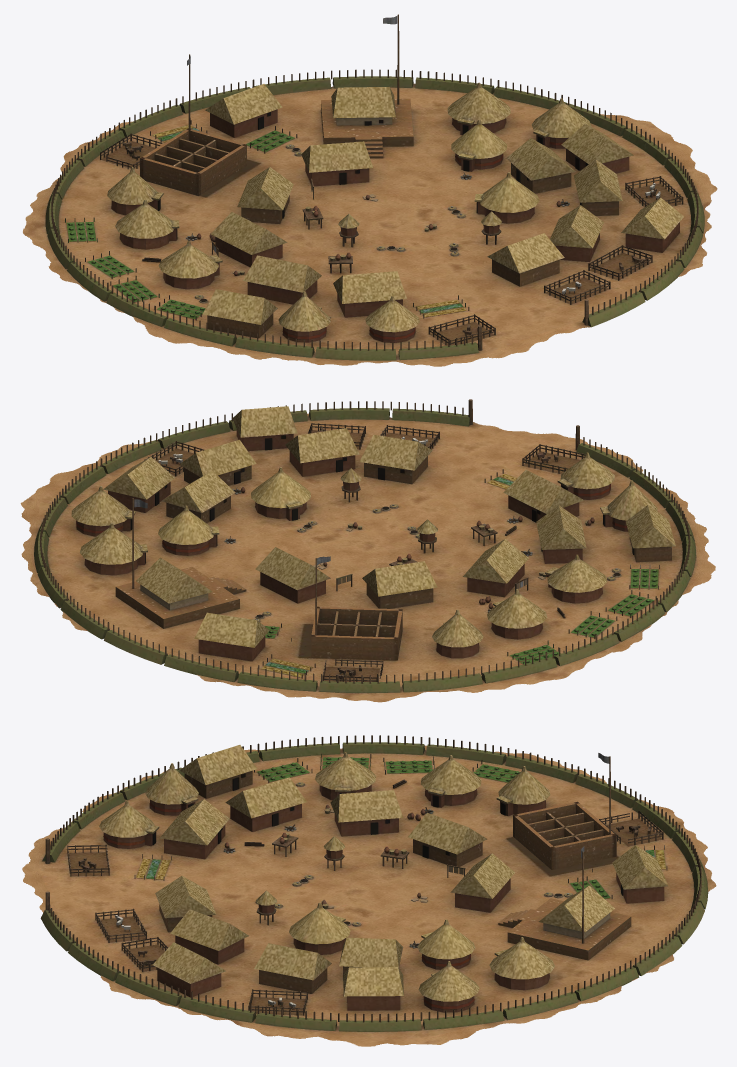
File: stone-town-big-a-indic.glb
3 views of the same model, one above another, from view 1: azimuth 30°, elevation 25°; view 2: azimuth 150°, elevation 25°; view 3: azimuth 270°, elevation 25° (orthographic). The views are drawn at different scales.
Visible parts, largest first — view 1: LOD0; view 2: LOD0; view 3: LOD0.
Part boxes in pixels (bbox=[...]): LOD0: bbox=[23, 14, 717, 366]; LOD0: bbox=[20, 399, 715, 702]; LOD0: bbox=[22, 735, 716, 1046].
Size of what is drawn, in the model's own units: 8.01 by 1.25 by 7.74.
Materials: 3 (3 with a texture image).
